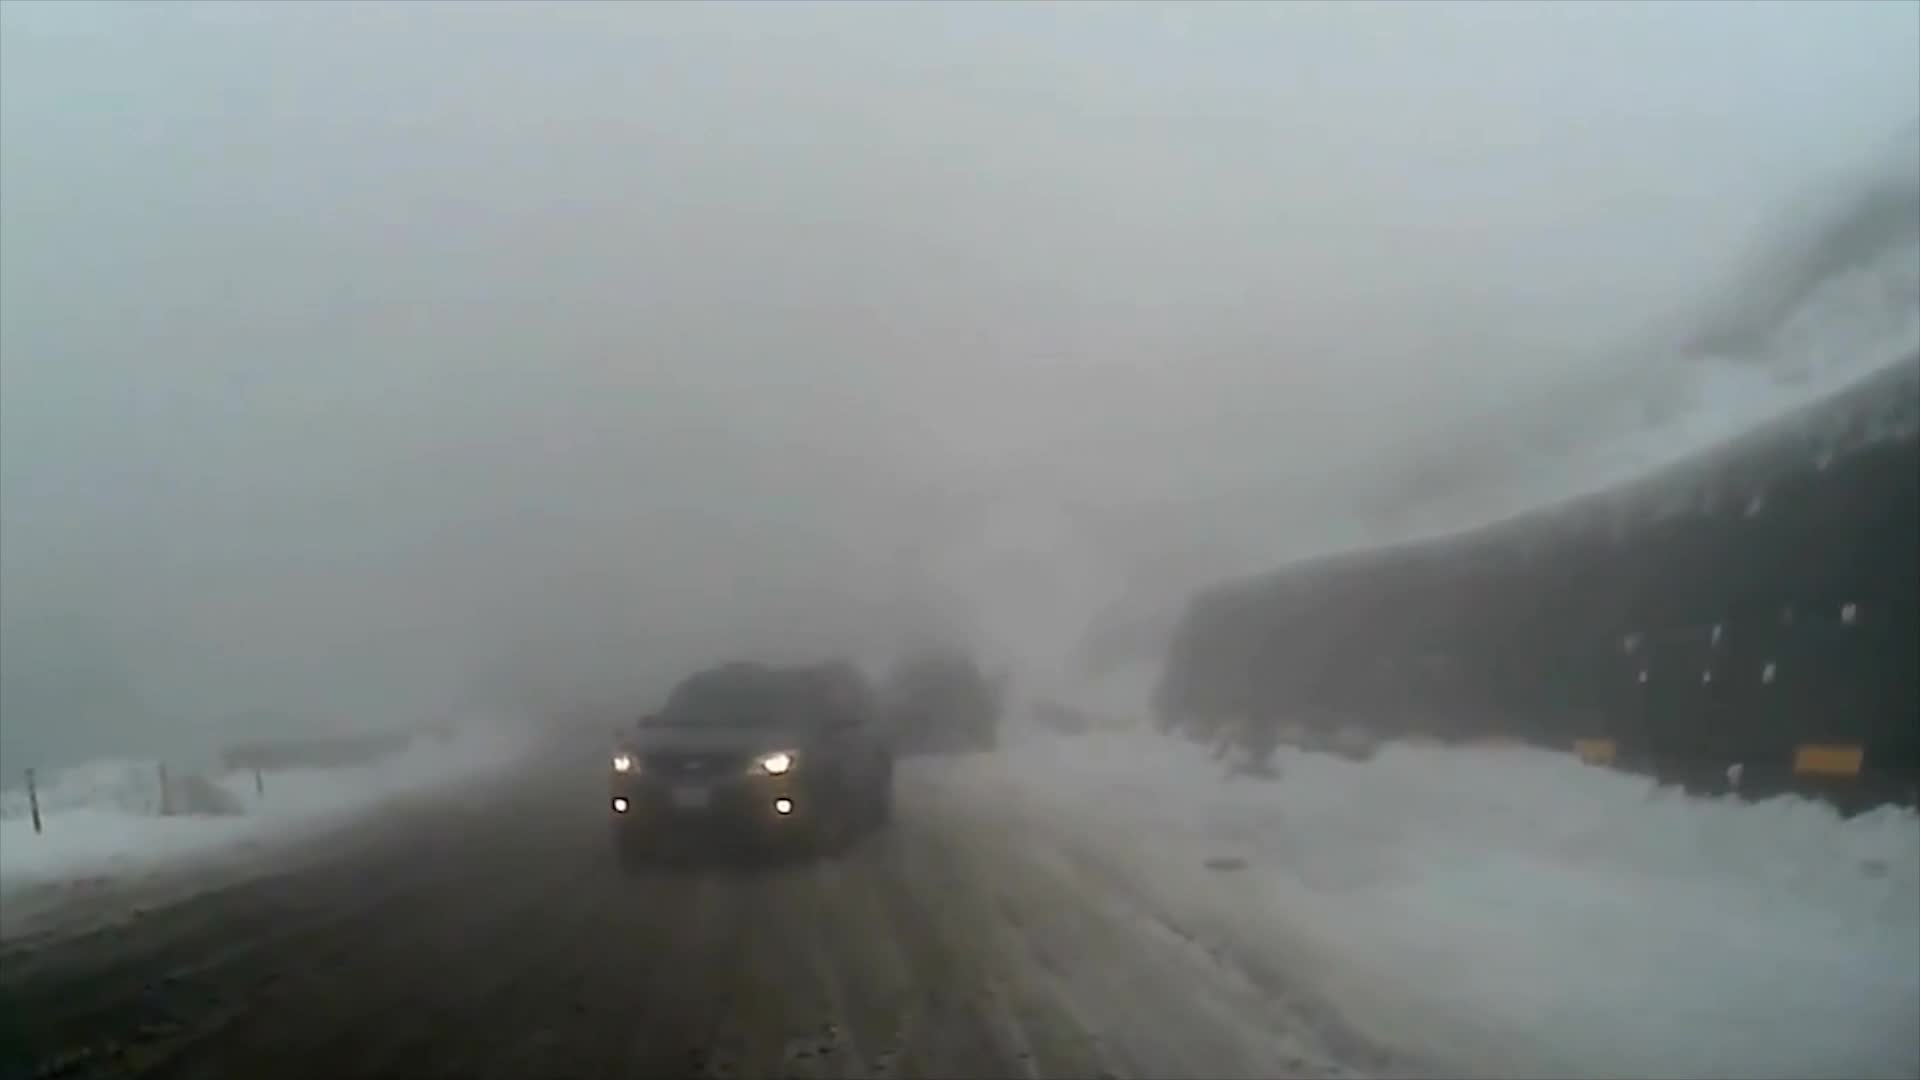vehicle: (601, 655, 891, 866)
